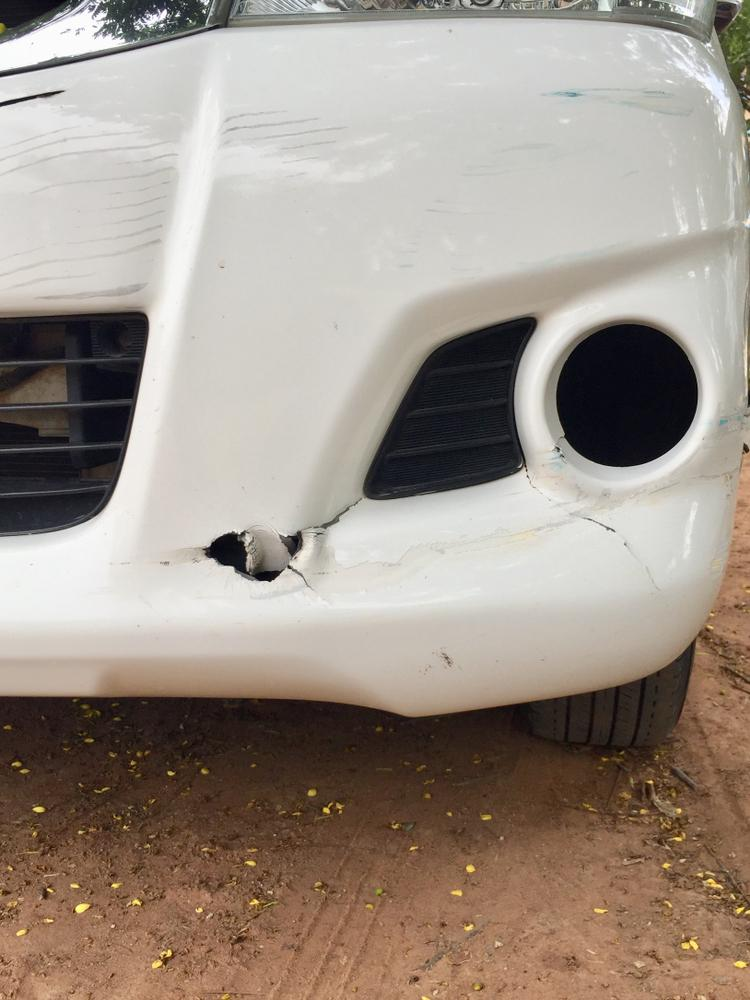crack: (523, 470, 668, 593), (204, 494, 363, 591)
scratch: (0, 95, 332, 310), (389, 82, 702, 284)
